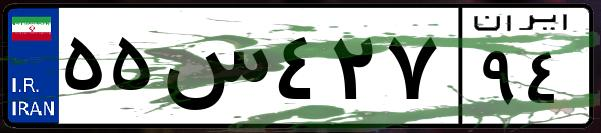2: (330, 28, 385, 110)
4: (270, 28, 330, 110), (525, 38, 570, 115)
5: (57, 26, 110, 100), (110, 28, 158, 98)
7: (385, 28, 445, 110)
9: (475, 38, 525, 113)
س: (158, 20, 270, 120)
